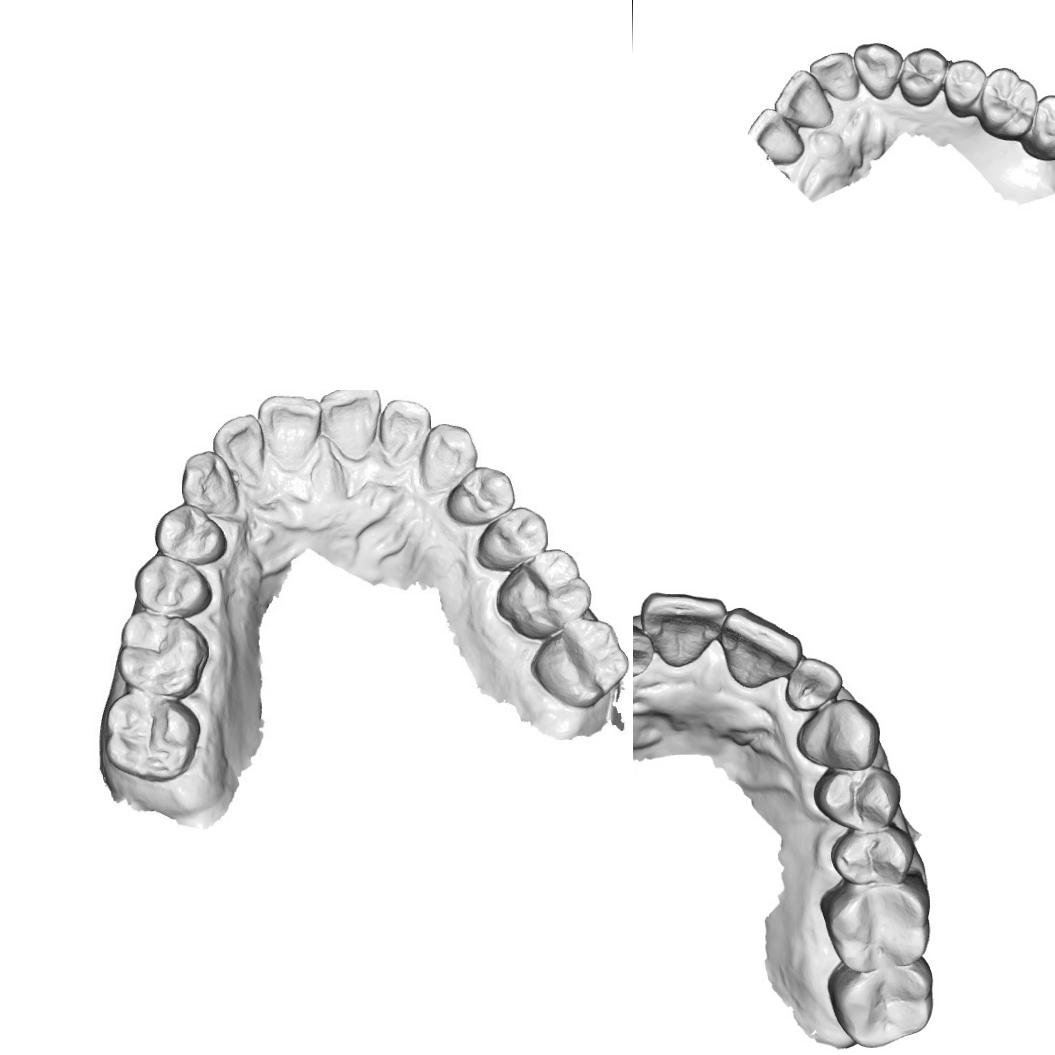canine: (792, 698, 882, 773), (418, 420, 480, 491), (180, 448, 237, 515), (852, 40, 904, 102)
incisor: (718, 606, 803, 695), (641, 589, 727, 669), (259, 394, 321, 470), (325, 390, 384, 461), (771, 67, 836, 130), (784, 654, 845, 716), (379, 401, 429, 473), (746, 108, 807, 166), (216, 414, 266, 484), (808, 50, 860, 102), (633, 623, 652, 682)
molar: (816, 877, 934, 973), (826, 956, 936, 1051), (530, 615, 632, 708), (496, 546, 590, 641), (105, 694, 202, 784), (118, 610, 208, 698), (977, 66, 1039, 142), (1019, 92, 1055, 162)
premolar: (813, 764, 902, 836), (128, 553, 210, 617), (153, 501, 228, 568), (829, 828, 914, 884), (474, 510, 547, 573), (445, 466, 516, 526), (896, 45, 946, 109), (942, 57, 986, 119)
